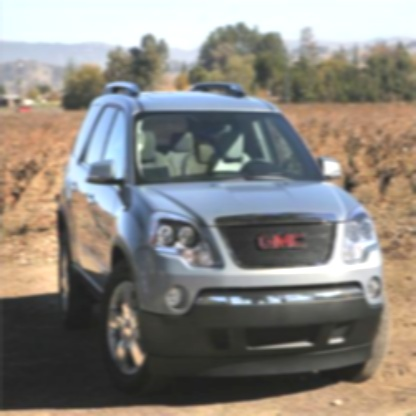Vehicle: (45, 60, 402, 407)
